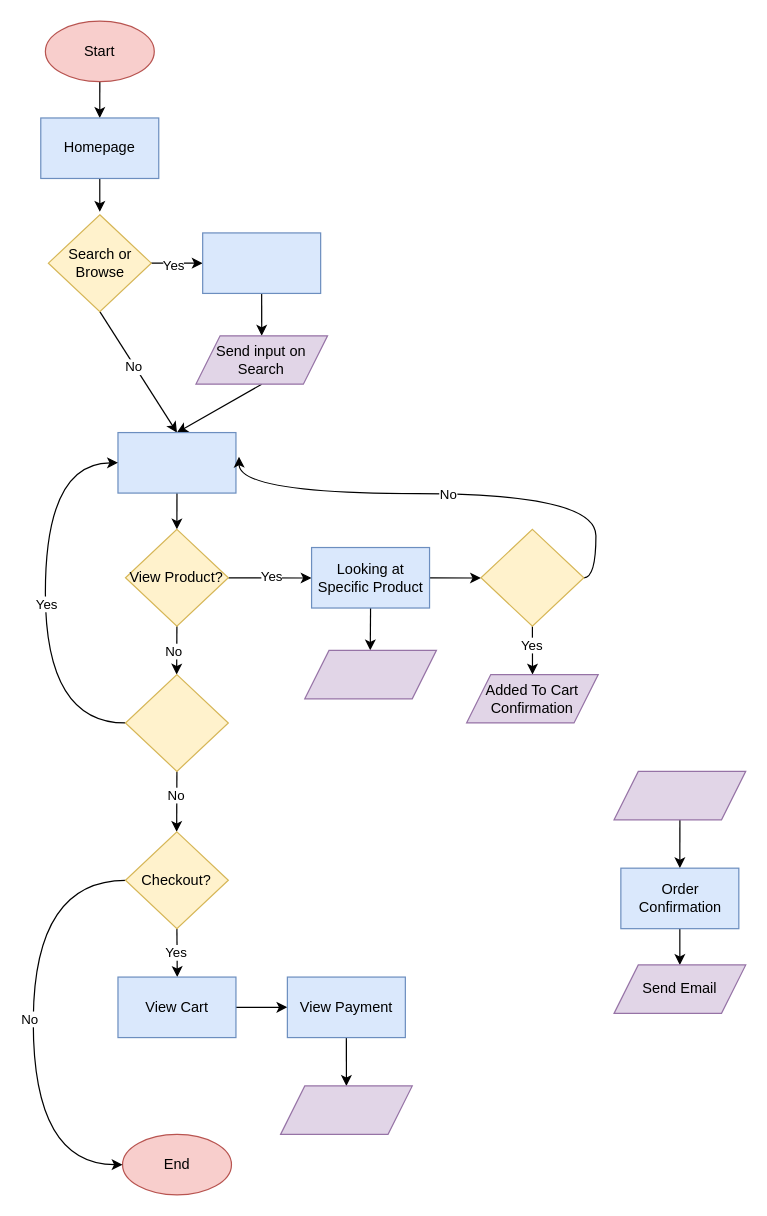
Image size: 767x1216. Some labels were removed from this diagram. Each missing label, with the centre of its shape:
Add to Cart?: the point at 532,577
Browsing Products: the point at 176,462
Continue Shopping?: the point at 176,722
Input Payment Information: the point at 345,1109
Payment Complete: the point at 679,795
Stop Viewing: the point at 370,674
User Search query: the point at 261,262
